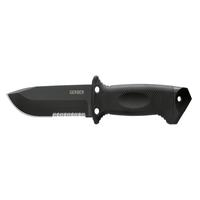knife: (4, 74, 192, 127)
